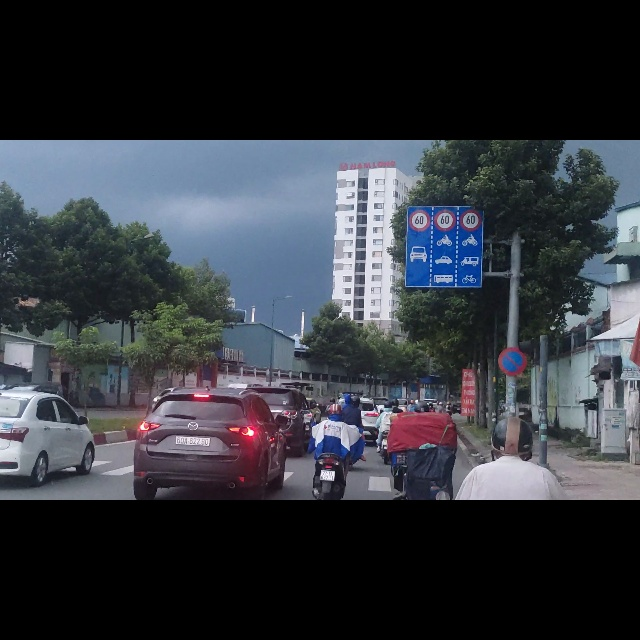bien_cam: (406, 165, 482, 262), (498, 369, 528, 417), (409, 124, 430, 163), (434, 123, 455, 161), (460, 123, 481, 161)
